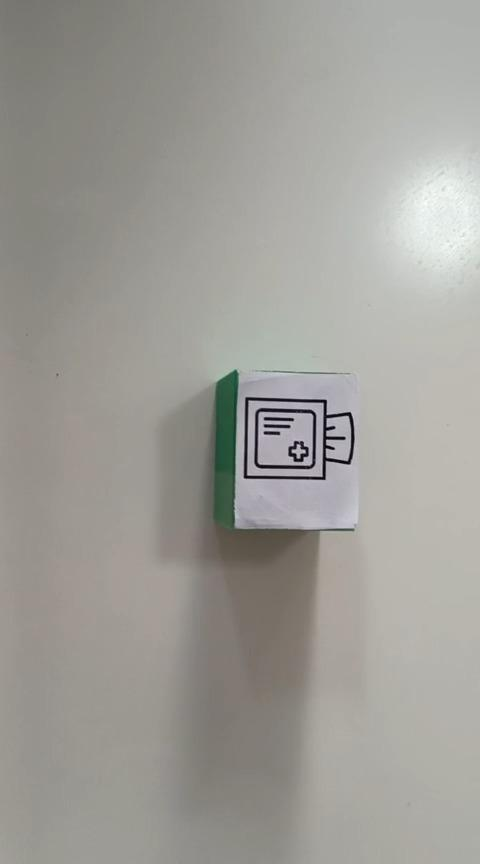Gauze: (212, 367, 360, 532)
